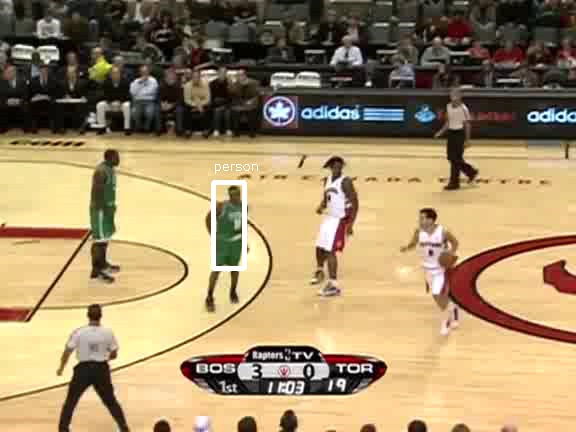person: (216, 195, 250, 276), (215, 195, 249, 276), (217, 195, 251, 276), (216, 194, 250, 275), (216, 196, 250, 277)
target_negative: (106, 123, 162, 265), (168, 191, 397, 216), (506, 204, 553, 266), (566, 309, 575, 360), (537, 416, 565, 424), (569, 427, 571, 428)
